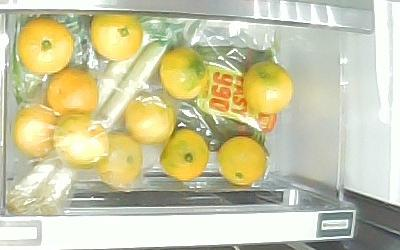tangerine: (18, 17, 74, 75), (48, 67, 99, 122), (243, 61, 293, 114), (216, 135, 269, 185), (160, 127, 208, 180), (158, 46, 206, 98), (90, 15, 145, 60)
tangerine_vinyl: (55, 113, 111, 168), (96, 133, 146, 188), (125, 95, 177, 143), (14, 107, 58, 154)
